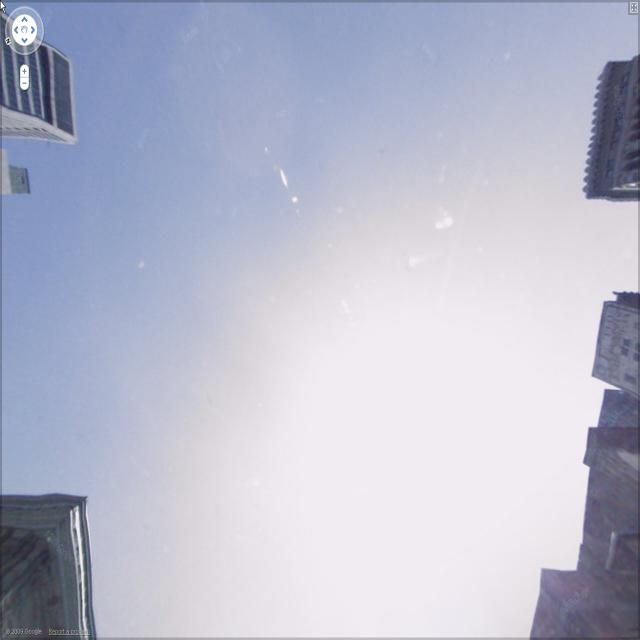b_1: (527, 282, 640, 590), (0, 17, 110, 152), (1, 487, 98, 630), (589, 52, 640, 178)
